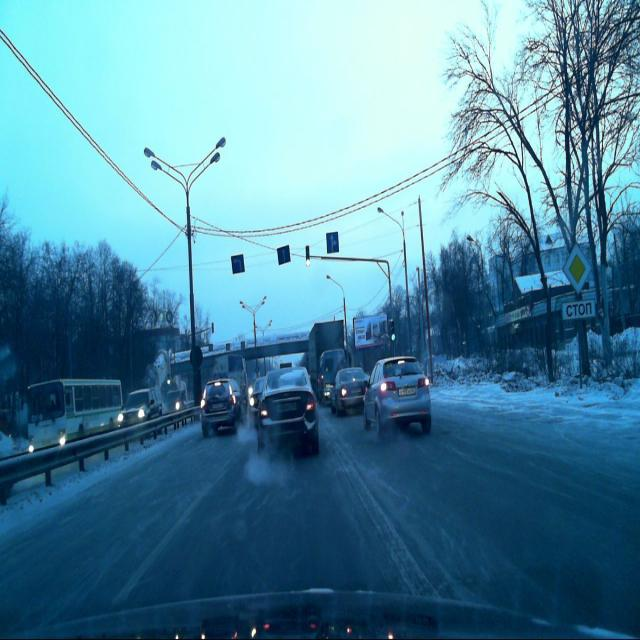object: (578, 324, 584, 389)
road sign: (562, 244, 590, 295), (562, 300, 596, 320)
